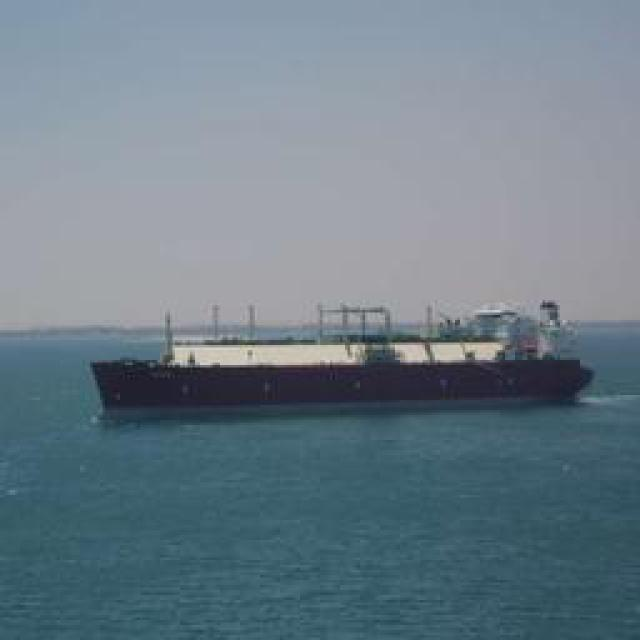Ship: (88, 330, 576, 415)
